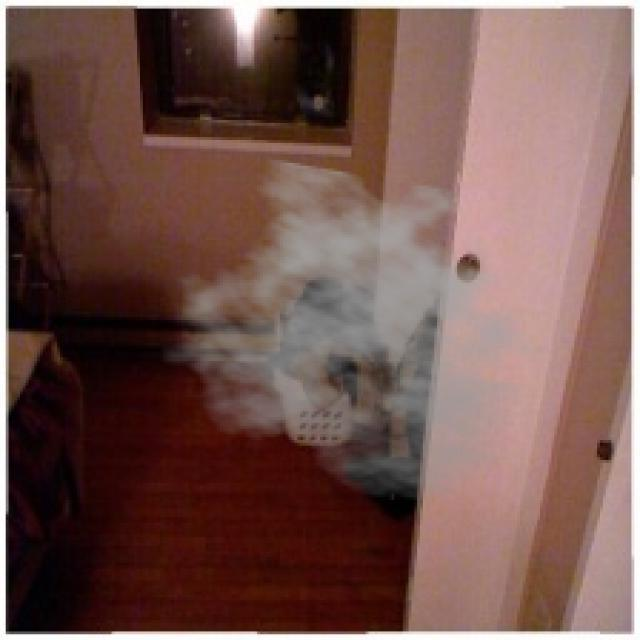Smoke: (157, 157, 566, 503)
